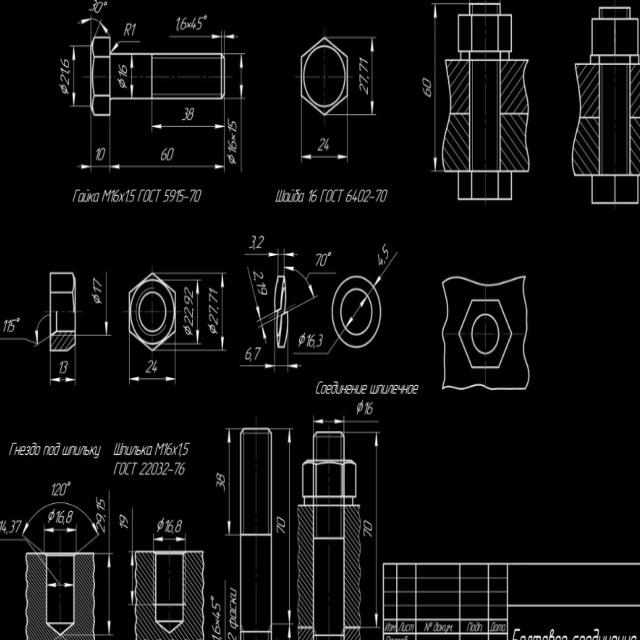marking_line: (286, 432, 292, 622), (283, 265, 315, 297), (374, 433, 379, 627), (244, 268, 261, 317), (433, 5, 438, 170), (376, 253, 401, 284), (225, 429, 232, 533), (346, 297, 368, 329), (32, 314, 50, 348), (79, 17, 111, 36), (106, 555, 113, 637), (111, 165, 224, 170), (369, 38, 375, 114), (195, 279, 202, 344), (220, 275, 226, 350), (152, 124, 224, 130), (309, 266, 337, 280), (168, 33, 220, 40), (238, 54, 246, 99), (130, 376, 177, 383), (105, 272, 110, 335), (129, 554, 135, 605), (45, 525, 78, 534), (302, 155, 347, 161), (313, 417, 343, 426), (154, 536, 183, 545), (72, 46, 76, 106), (240, 364, 274, 371), (244, 252, 277, 259), (48, 377, 76, 385), (294, 332, 306, 349), (48, 581, 73, 589), (259, 327, 270, 345), (285, 251, 301, 260), (226, 34, 238, 41), (76, 164, 90, 170), (288, 364, 302, 369), (287, 623, 291, 640)
numeric: (174, 10, 204, 33), (210, 594, 222, 640), (93, 498, 107, 534), (0, 517, 25, 537), (207, 288, 220, 325), (358, 56, 370, 94), (183, 288, 194, 326), (253, 271, 268, 298), (248, 234, 266, 252), (59, 57, 70, 86), (374, 245, 389, 266), (245, 347, 262, 364), (306, 333, 324, 349), (165, 518, 183, 534), (51, 482, 70, 497), (2, 317, 21, 332), (145, 356, 159, 375), (421, 77, 432, 100), (214, 473, 226, 494), (182, 107, 197, 123), (316, 137, 331, 153), (89, 0, 102, 17), (276, 516, 287, 536), (160, 148, 175, 162), (123, 22, 136, 38), (315, 252, 327, 269), (118, 514, 130, 531), (117, 62, 129, 78), (362, 520, 372, 538), (227, 116, 237, 132), (58, 358, 68, 374), (92, 277, 102, 293), (96, 148, 106, 163), (364, 401, 374, 416), (227, 140, 239, 152)
special_symbol: (293, 338, 339, 363), (111, 40, 142, 50), (59, 83, 71, 97), (91, 292, 102, 306), (207, 322, 218, 336), (47, 508, 56, 524), (227, 153, 237, 166), (156, 518, 165, 532), (116, 78, 127, 89), (183, 324, 192, 337), (356, 400, 363, 414), (231, 131, 237, 143), (204, 14, 207, 22), (104, 1, 107, 7)
